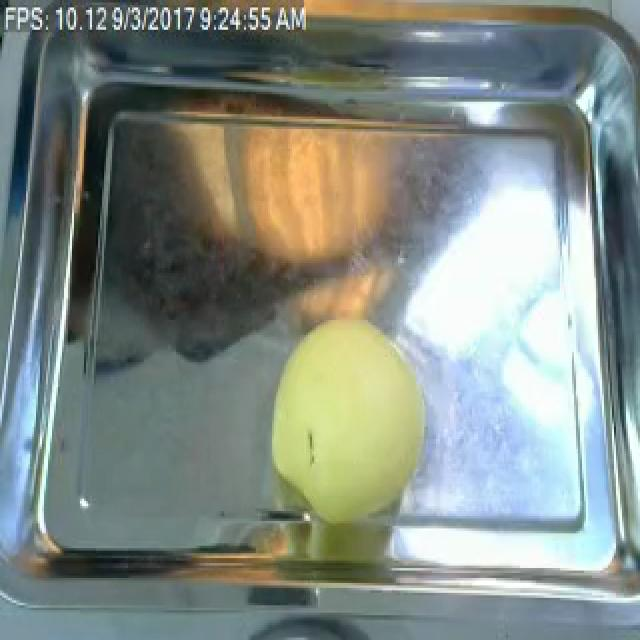Fruit: (202, 42, 450, 280), (258, 307, 438, 528)
